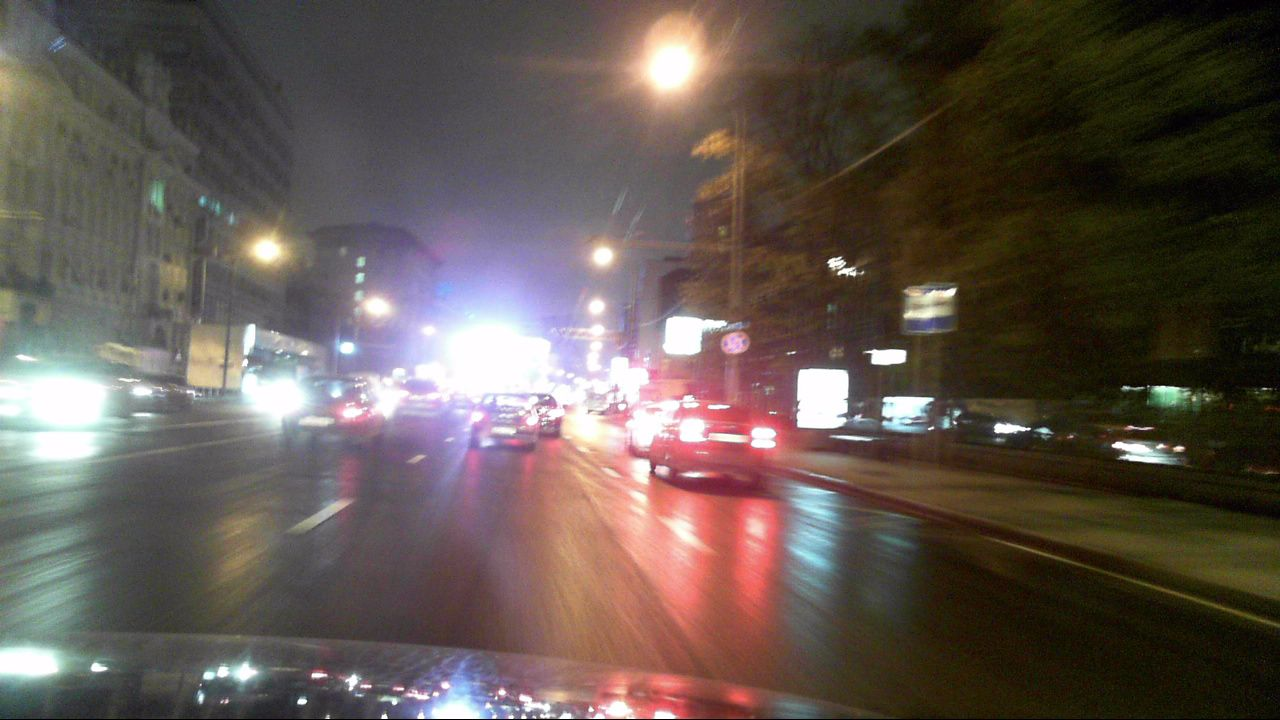No Parking: (722, 331, 749, 355)
